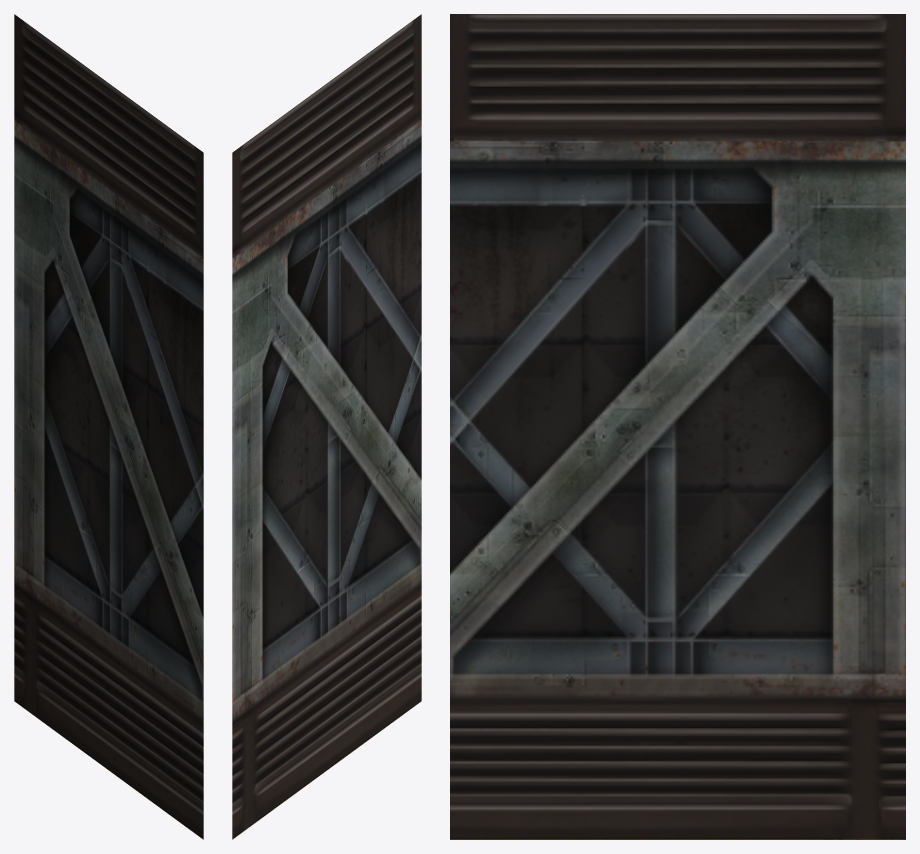
Rendered from Wall_A_Short2mts_08.fbx.
3 views of the same model, side by side, from view 1: azimuth 30°, elevation 25°; view 2: azimuth 150°, elevation 25°; view 3: azimuth 270°, elevation 25° (orthographic). The views are drawn at different scales.
Parts seen in each view (by area): view 1: Wall_A_Short2mts_08; view 2: Wall_A_Short2mts_08; view 3: Wall_A_Short2mts_08.
Boxes of the visible parts, <box> form: Wall_A_Short2mts_08: <box>14,14,203,839</box>; Wall_A_Short2mts_08: <box>232,14,421,839</box>; Wall_A_Short2mts_08: <box>450,14,905,839</box>.
Bounding box in the file's own units: 0.00029 × 200 × 100.
1 material, 1 textured.
